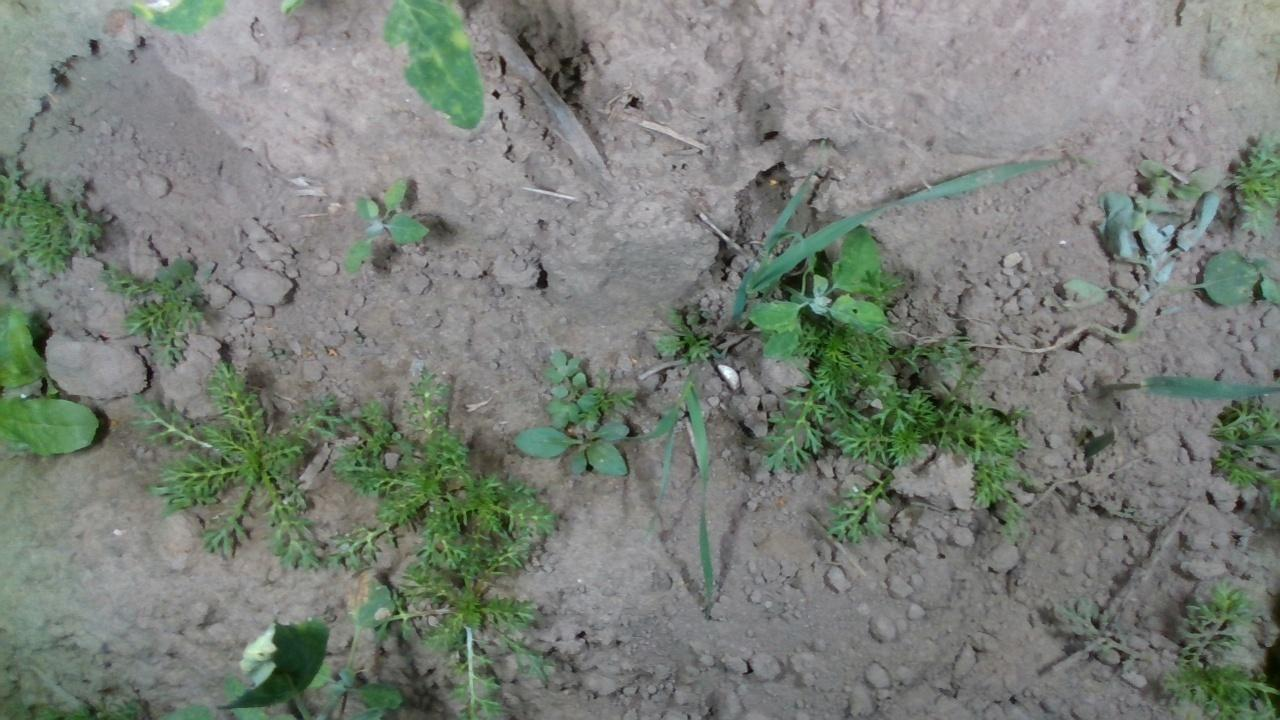weed: (340, 175, 428, 276)
